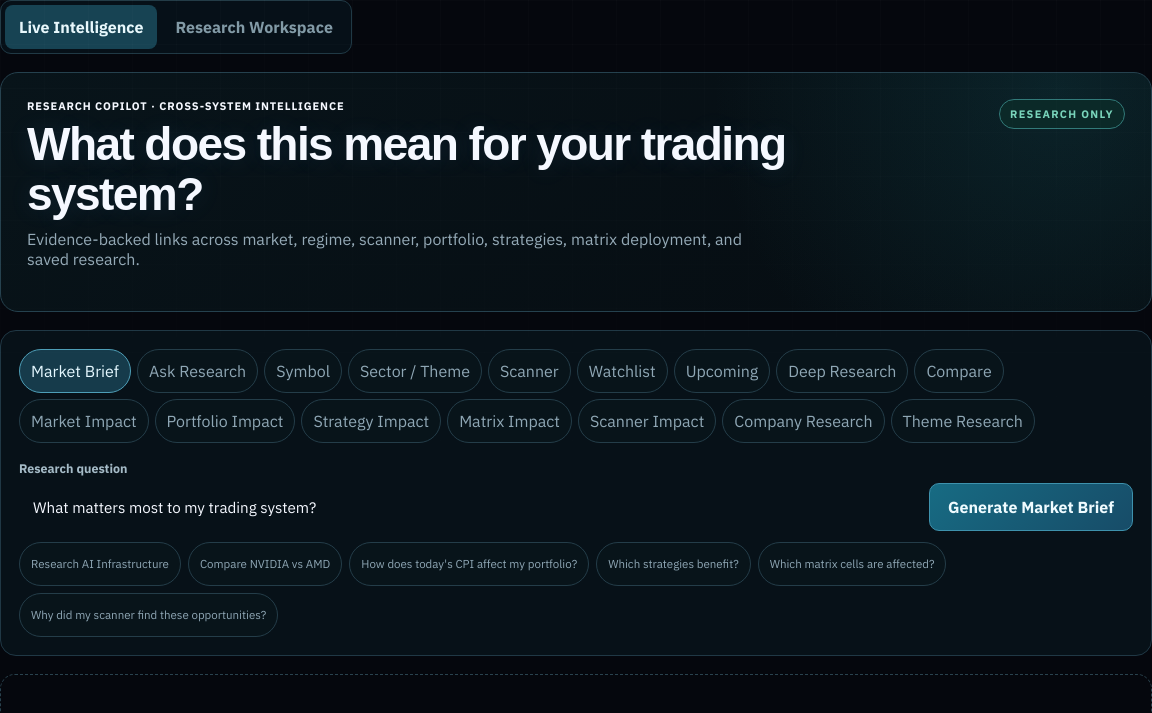
Test: ResearchWorkspace › navigates a dossier and renders saved report evidence, thesis, notes, and timeline
This screenshot has width=1152, height=713.
Click the button "Research Workspace": (254, 27) [161,5,347,49]
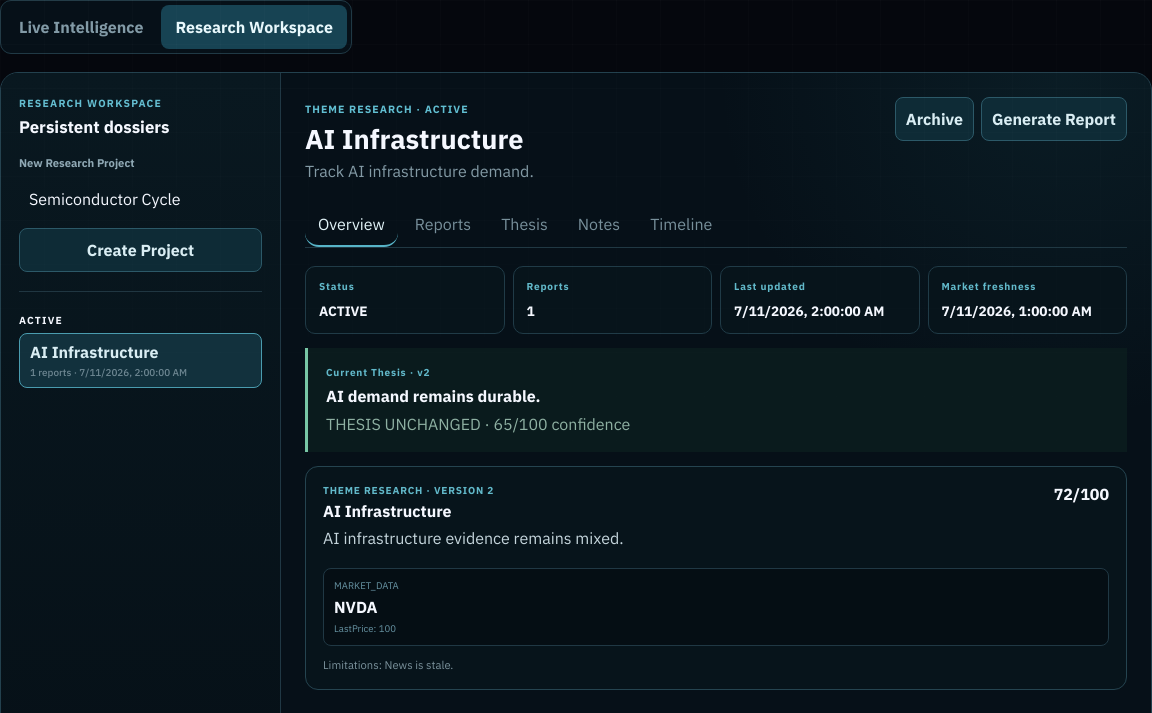
Now the text "AI infrastructure evidence remains mixed." is shown, box [323,528,624,548]
Now the text "LastPrice: 100" is shown, box [334,622,396,635]
Click the button "Thesis": (524, 225) [488,203,561,247]
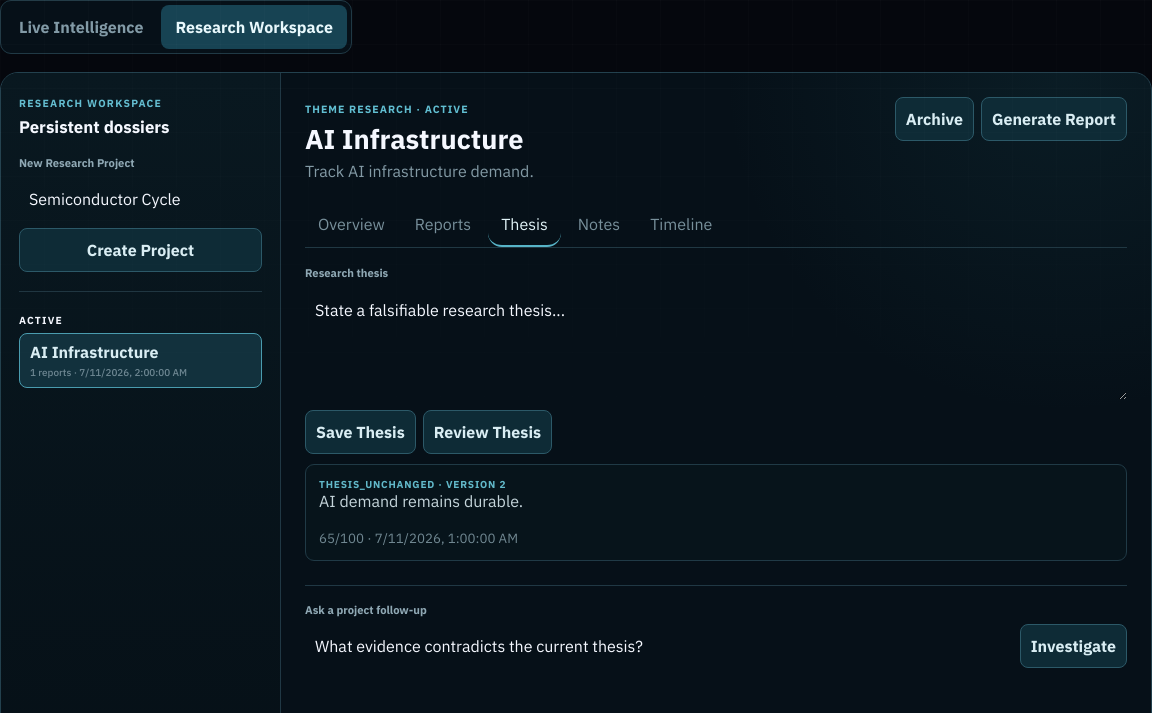
Now the text "AI demand remains durable." is shown, box [319,491,523,511]
Click the button "Notes": (599, 225) [565,203,633,247]
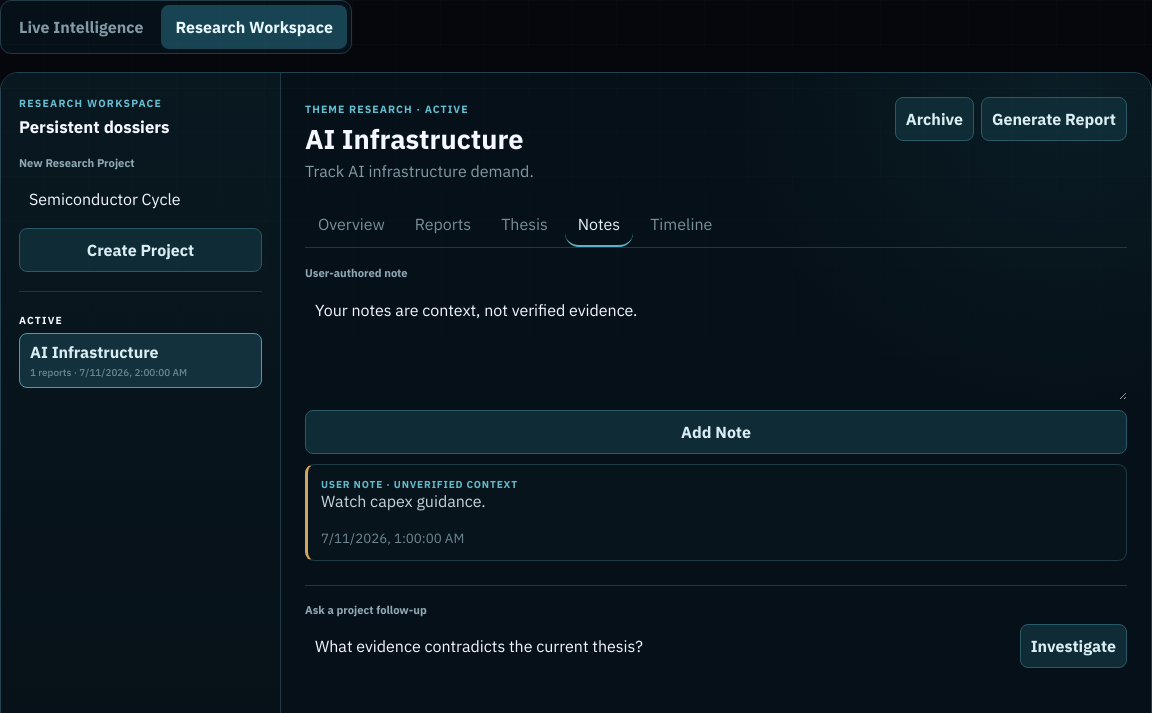
Now the text "USER NOTE · UNVERIFIED CONTEXT" is shown, box [321,478,518,491]
Click the button "Timeline": (681, 225) [637,203,725,247]
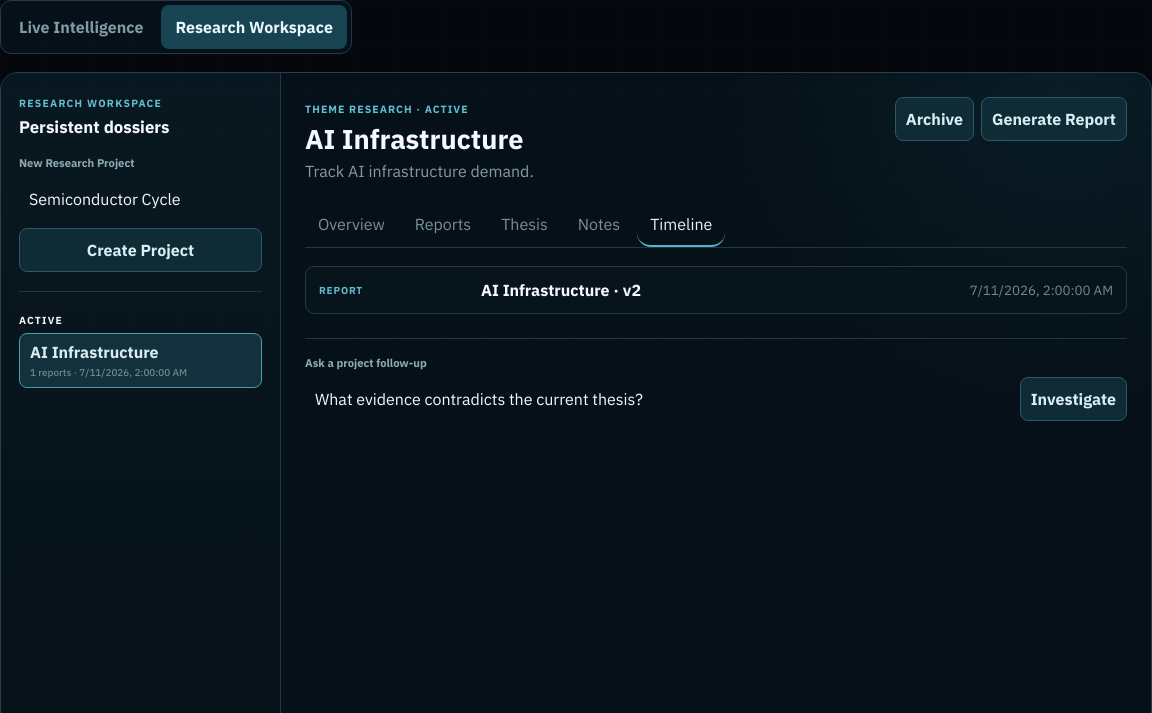
Now the text "AI Infrastructure · v2" is shown, box [481,280,641,300]
